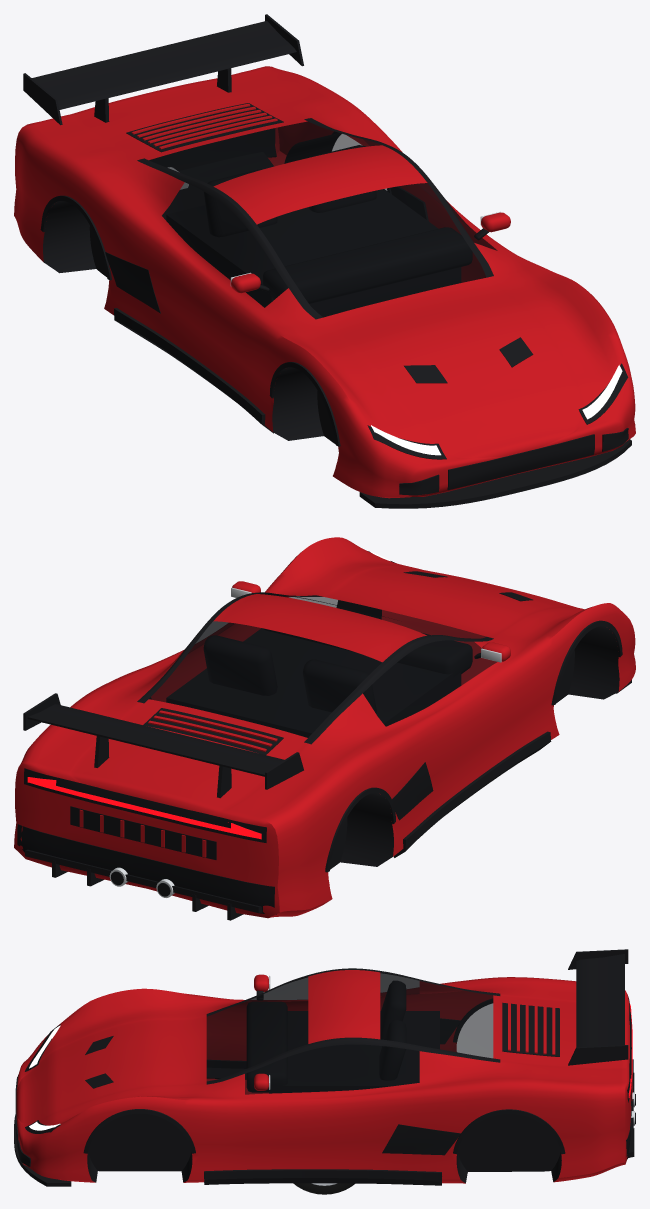
File: car.glb
The picture shows the model from 3 angles, top to bottom: view 1: azimuth 30°, elevation 25°; view 2: azimuth 150°, elevation 25°; view 3: azimuth 270°, elevation 25°; orthographic projection. The views are drawn at different scales.
Visible parts, largest first — view 1: CarBody; view 2: CarBody; view 3: CarBody, Wheel.
Part boxes in pixels (<box>): CarBody: <box>14,14,635,508</box>; CarBody: <box>14,537,635,920</box>; CarBody: <box>14,949,635,1186</box>; Wheel: <box>293,1183,354,1194</box>.
Size of the model in its own units: 2 by 1.54 by 4.55.
